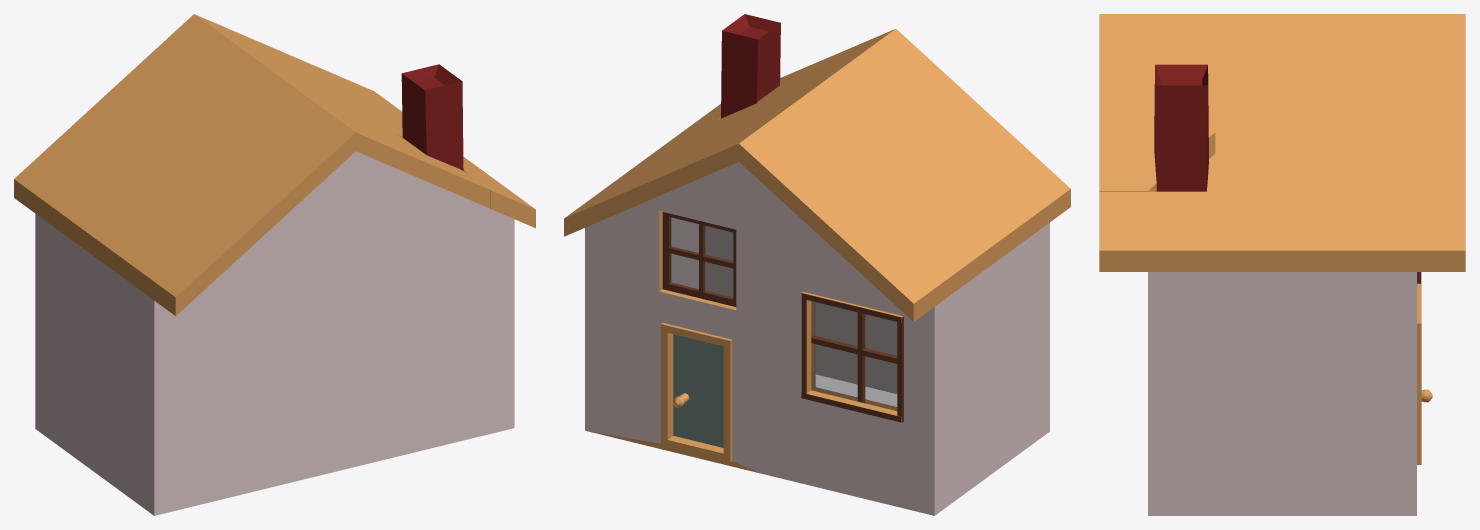
The model's file is house1.glb.
The picture shows the model from 3 angles, left to right: view 1: azimuth 30°, elevation 25°; view 2: azimuth 150°, elevation 25°; view 3: azimuth 270°, elevation 25°; orthographic projection. The views are drawn at different scales.
Parts seen in each view (by area): view 1: house; view 2: house, window2, window1; view 3: house.
Part boxes in pixels (left/top/right/bottom): house: left=14, top=14, right=535, bottom=515; house: left=564, top=14, right=1070, bottom=515; window2: left=811, top=301, right=897, bottom=410; window1: left=662, top=212, right=736, bottom=306; house: left=1099, top=14, right=1465, bottom=515.
Bounding box in the file's own units: 3.5 × 3.31 × 2.72.
